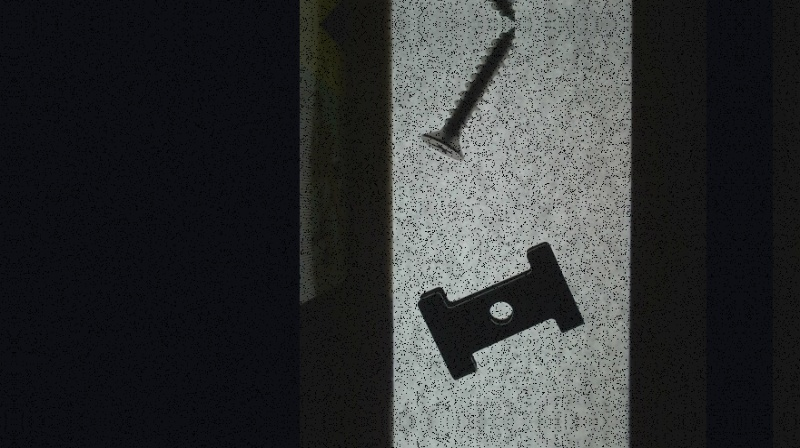O002: (414, 239, 587, 384)
S001: (417, 22, 522, 164)
